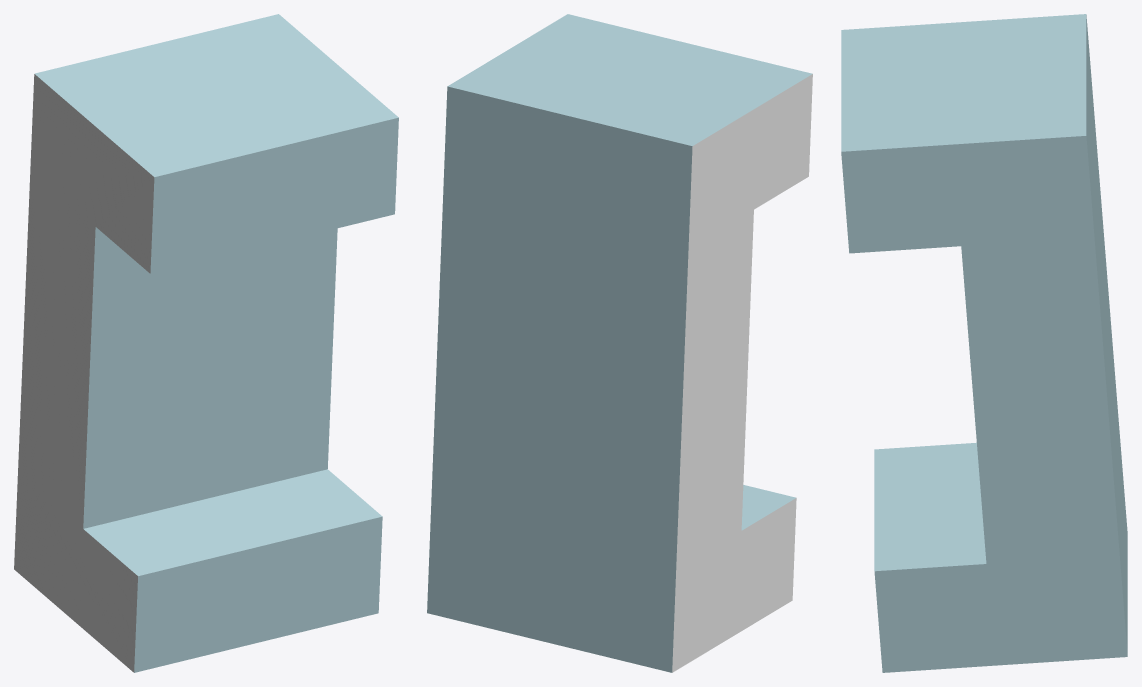
Rendered from handcar_rail.gltf.
3 renders of one model, left to right at view 1: azimuth 30°, elevation 25°; view 2: azimuth 150°, elevation 25°; view 3: azimuth 270°, elevation 25°, orthographic. The views are drawn at different scales.
Parts seen in each view (by area): view 1: Rail; view 2: Rail; view 3: Rail.
Part boxes in pixels (x1=…): Rail: x1=14, y1=14, x2=398, y2=672; Rail: x1=427, y1=14, x2=812, y2=672; Rail: x1=841, y1=14, x2=1127, y2=672.
Bounding box in the file's own units: 0.0409 × 0.084 × 0.0406.
